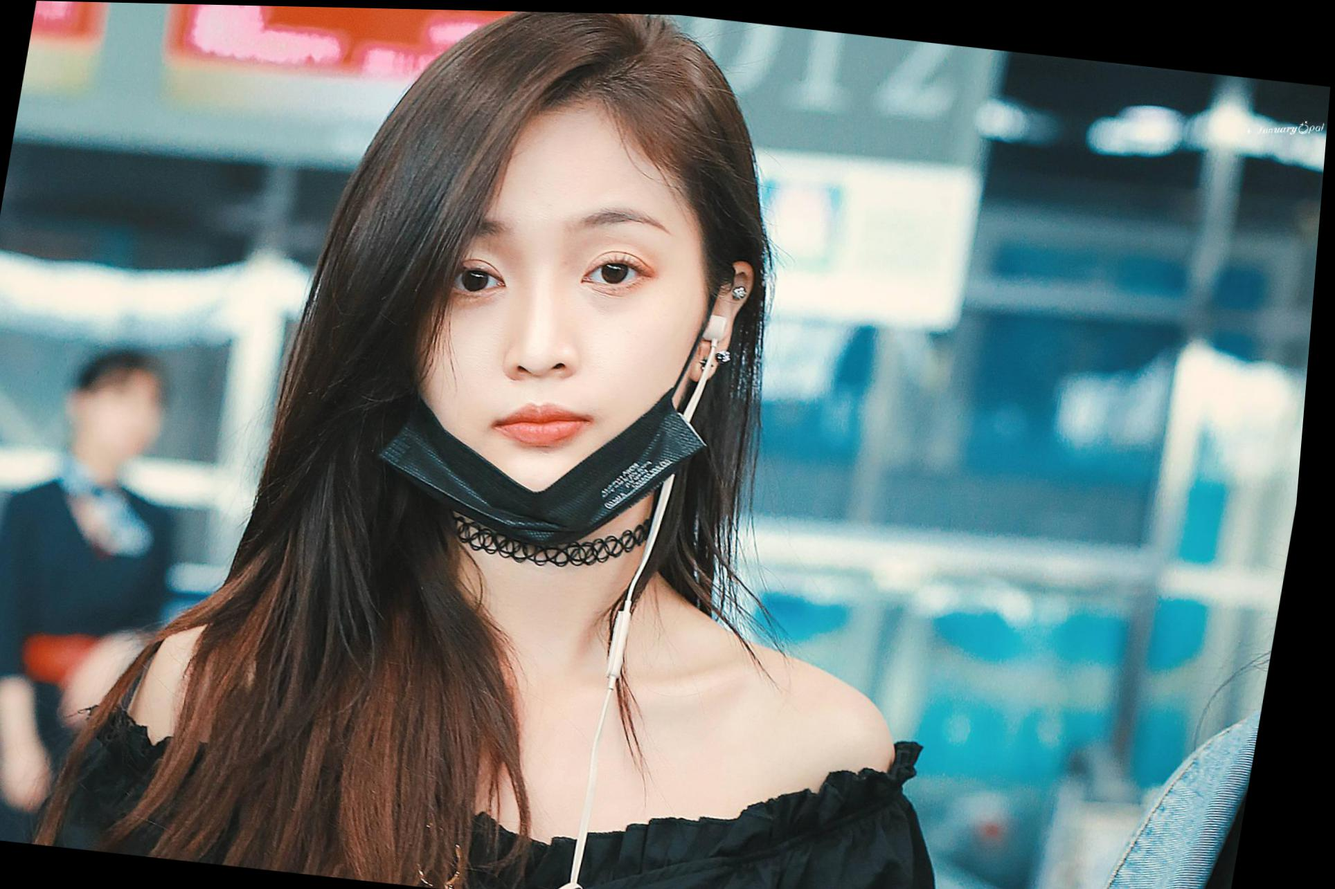NONE: (96, 368, 178, 457)
WRONG: (373, 130, 731, 541)
